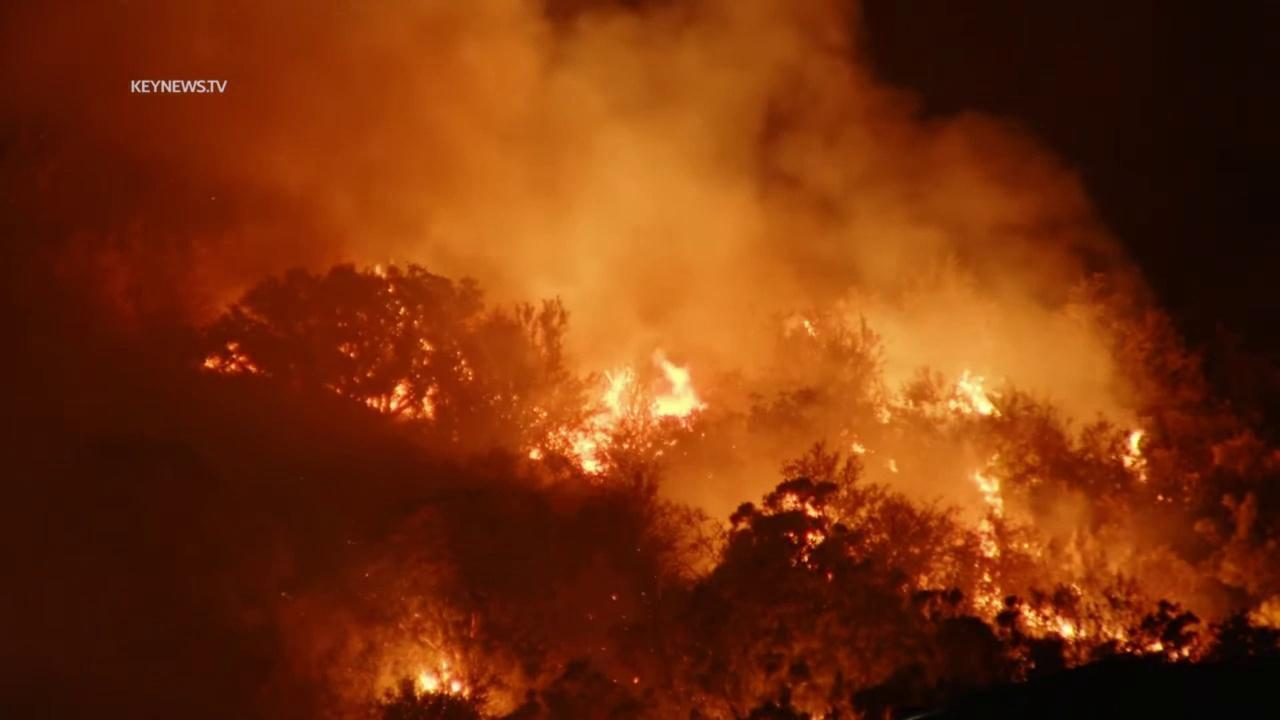fire: (524, 345, 707, 480), (323, 297, 442, 425), (969, 567, 1089, 642), (1098, 615, 1194, 665), (955, 440, 1012, 522), (943, 367, 1005, 422), (201, 340, 266, 379), (415, 658, 467, 697), (785, 526, 827, 570), (1118, 428, 1149, 483), (974, 518, 1003, 561), (369, 257, 399, 295), (784, 492, 824, 520), (846, 441, 868, 456), (803, 319, 818, 338), (888, 456, 900, 476), (1154, 493, 1167, 503)
smoke: (0, 0, 1280, 720)
